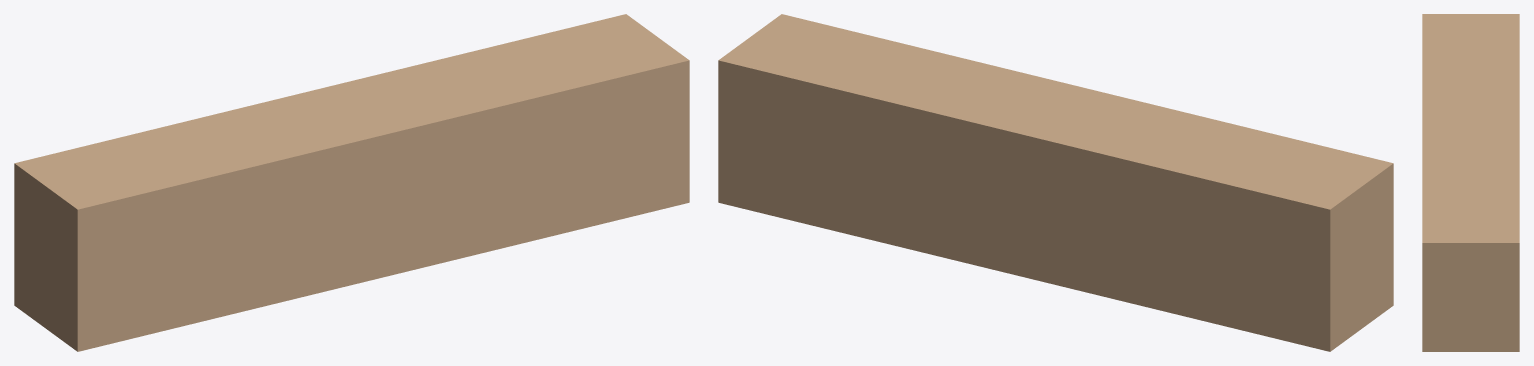
The model's file is media_console_10.glb.
The picture shows the model from 3 angles, left to right: view 1: azimuth 30°, elevation 25°; view 2: azimuth 150°, elevation 25°; view 3: azimuth 270°, elevation 25°; orthographic projection. The views are drawn at different scales.
Size of the model in its own units: 2.34 by 0.52 by 0.42.
